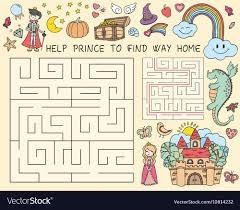maze: (10, 58, 134, 182), (142, 57, 204, 119)
